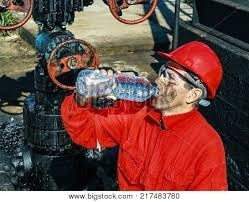helmet: (160, 37, 223, 96)
person with partial safety: (99, 34, 232, 188)
